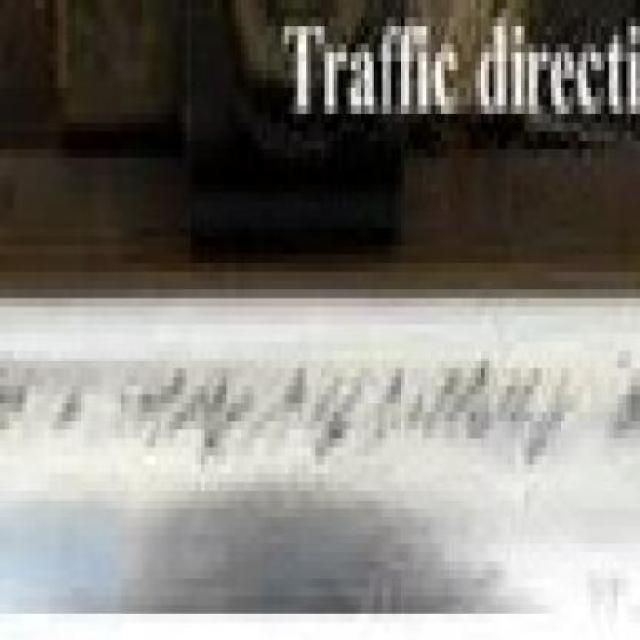defective: (4, 233, 640, 637)
